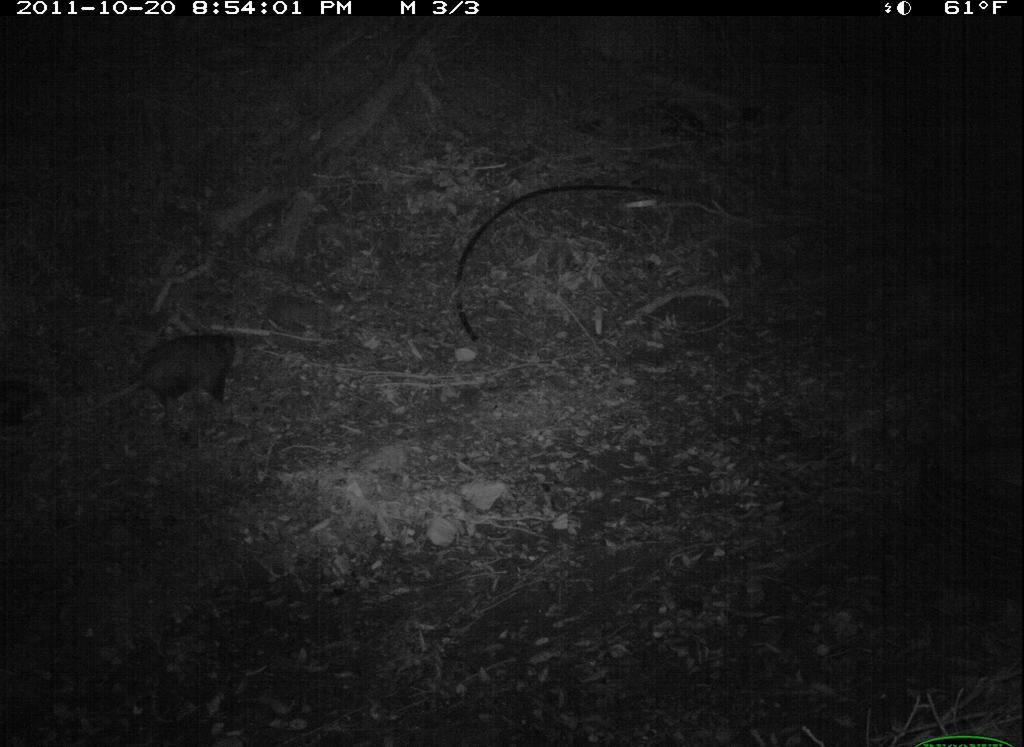opossum: (70, 324, 254, 423)
